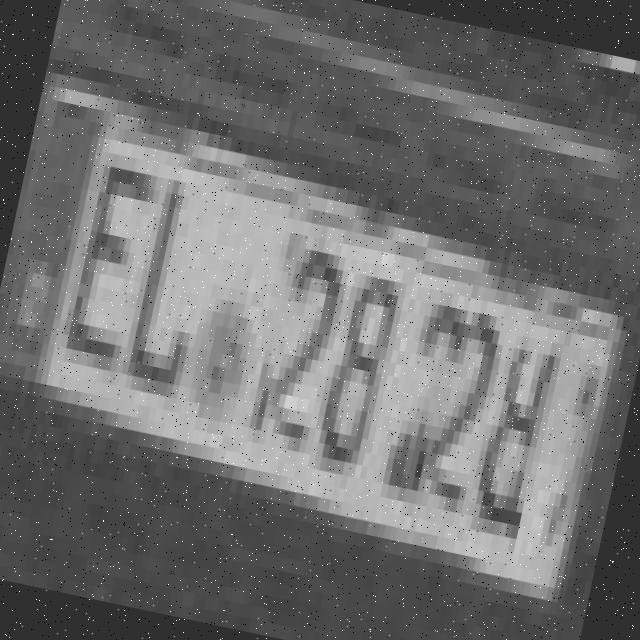Autre: (0, 87, 628, 611)
